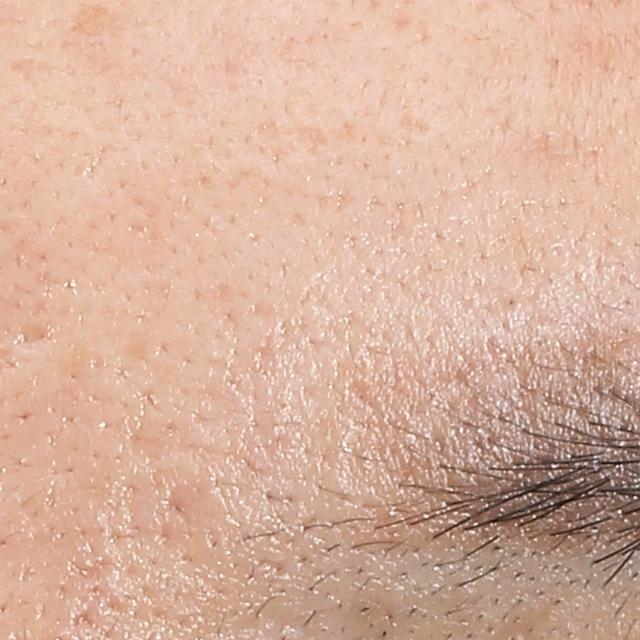atrophic_scar: (19, 322, 61, 345)
